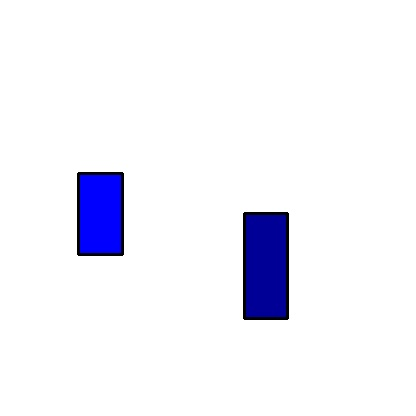rectangle: (244, 213, 287, 318), (78, 173, 122, 254)
